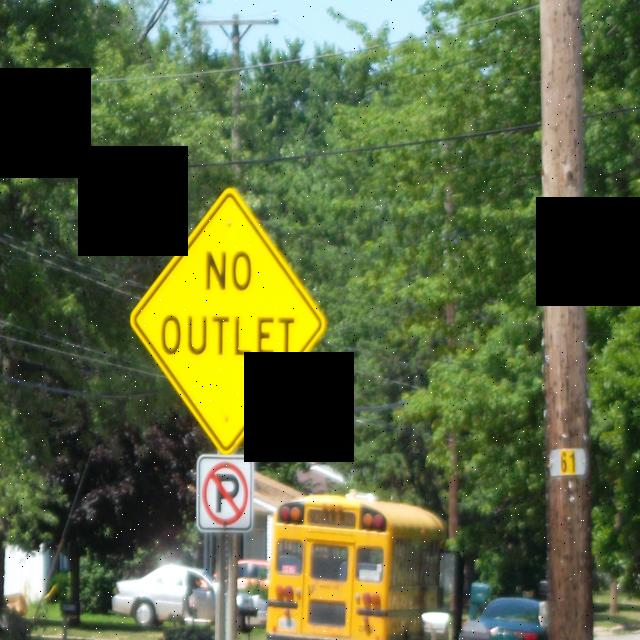warning: (132, 170, 334, 450)
